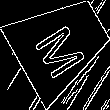M_NE: (30, 11, 92, 77)
